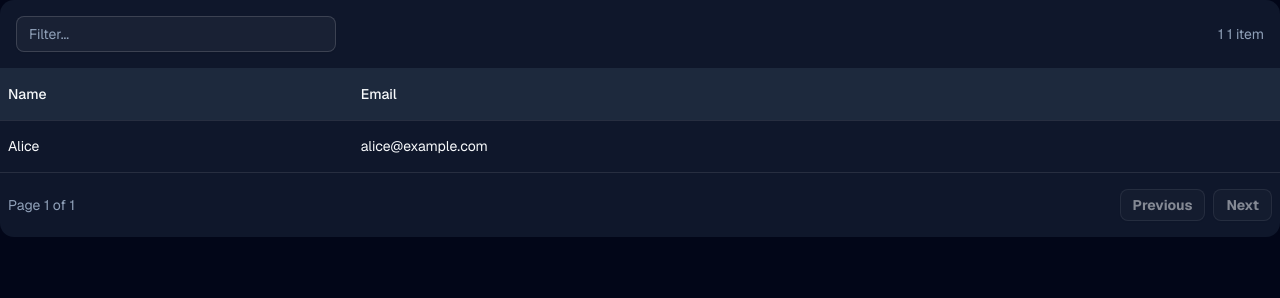
Test: DataTable › shows fallback when no results
Type "nonexistent" into the field with placeholder "Filter..." at (176,34), box [16,16,336,52]
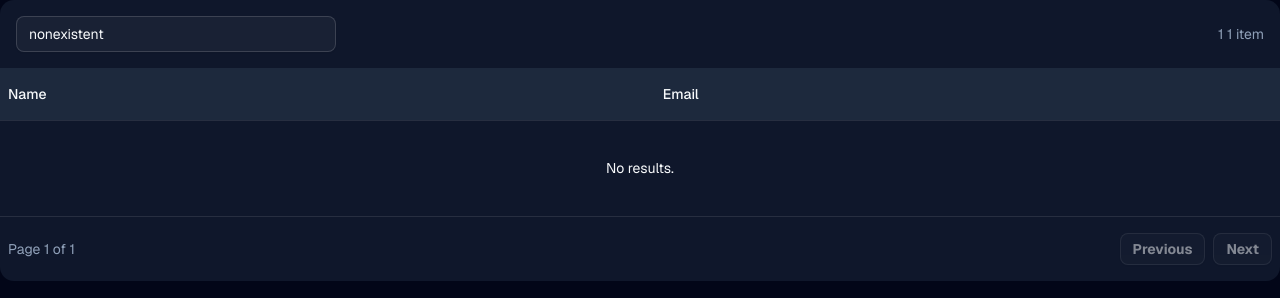
Check: the text "No results." is shown, box [0,120,1279,216]
